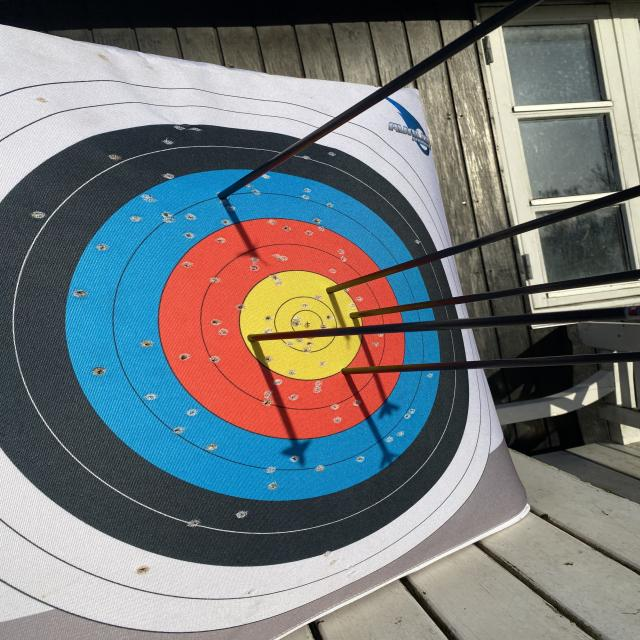Arrow_Blue: (208, 184, 246, 214)
Arrow_Red: (330, 357, 364, 388)
Arrow_Yellow: (315, 277, 347, 306), (236, 325, 277, 347), (341, 307, 371, 331)
